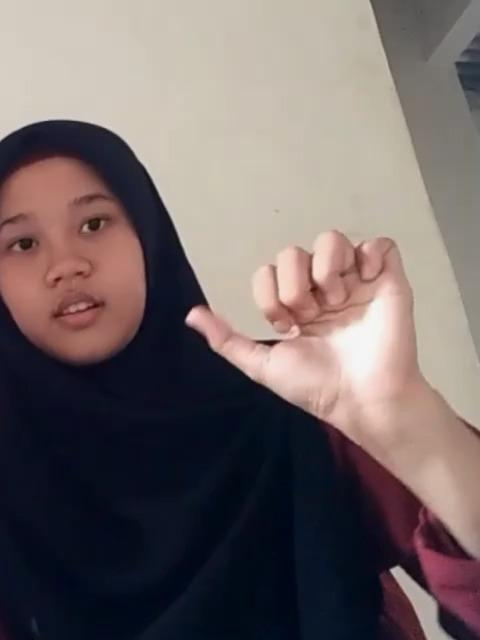S: (181, 219, 415, 413)
